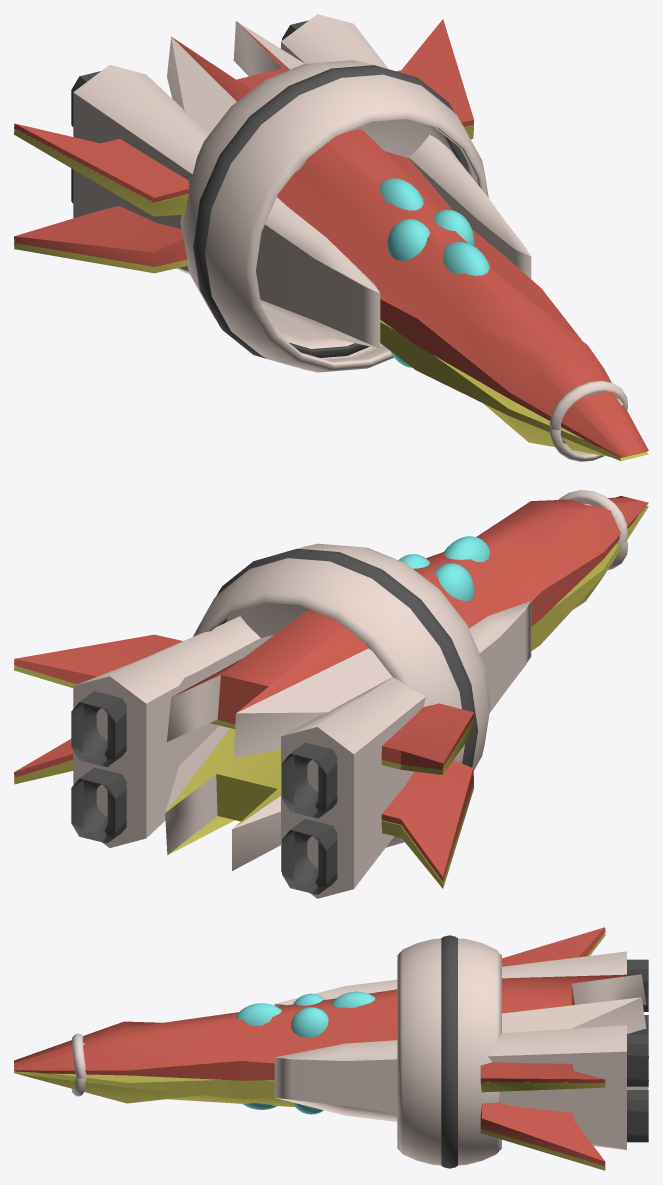
The model's file is enemy02.fbx.
The picture shows the model from 3 angles, top to bottom: view 1: azimuth 30°, elevation 25°; view 2: azimuth 150°, elevation 25°; view 3: azimuth 270°, elevation 25°; orthographic projection. The views are drawn at different scales.
Parts seen in each view (by area): view 1: pasted__pCube2, pSphere37, pasted__pCube7, pasted__pCube56, pasted__pCube9, pasted__pCube62, pSphere44, pasted__pCube55, pasted__pCube10, pasted__pCube58, pasted__pCube61, pSphere26 (+6 smaller); view 2: pasted__pCube2, pSphere37, pasted__pCube7, pasted__pCube56, pasted__pCube10, pasted__pCube9, pasted__pCube58, pasted__pCube62, pasted__pCube59, pasted__pCube57, pSphere44, pasted__pCube55 (+9 smaller); view 3: pasted__pCube2, pSphere37, pasted__pCube56, pasted__pCube57, pasted__pCube58, pasted__pCube10, pasted__pCube62, pSphere44, pasted__pCube9, pasted__pCube7, pasted__pasted__pCube77, pasted__pasted__pCube78 (+7 smaller).
Boxes of the visible parts, left/top/right/bottom form: pasted__pCube2: left=172, top=23, right=648, bottom=457; pSphere37: left=180, top=60, right=488, bottom=372; pasted__pCube7: left=73, top=65, right=380, bottom=320; pasted__pCube56: left=281, top=14, right=531, bottom=278; pasted__pCube9: left=14, top=19, right=473, bottom=202; pasted__pCube62: left=14, top=206, right=187, bottom=266; pSphere44: left=193, top=65, right=469, bottom=358; pasted__pCube55: left=73, top=123, right=380, bottom=348; pasted__pCube10: left=167, top=21, right=304, bottom=134; pasted__pCube58: left=380, top=320, right=648, bottom=460; pasted__pCube61: left=14, top=125, right=473, bottom=216; pSphere26: left=387, top=219, right=429, bottom=260; pasted__pCube2: left=173, top=496, right=648, bottom=723; pSphere37: left=193, top=543, right=490, bottom=847; pasted__pCube7: left=281, top=601, right=531, bottom=859; pasted__pCube56: left=73, top=616, right=260, bottom=808; pasted__pCube10: left=167, top=635, right=392, bottom=758; pasted__pCube9: left=14, top=634, right=473, bottom=769; pasted__pCube58: left=165, top=505, right=648, bottom=854; pasted__pCube62: left=14, top=739, right=473, bottom=882; pasted__pCube59: left=165, top=725, right=280, bottom=870; pasted__pCube57: left=73, top=716, right=218, bottom=847; pSphere44: left=216, top=548, right=477, bottom=767; pasted__pCube55: left=281, top=629, right=531, bottom=898; pasted__pCube2: left=14, top=974, right=639, bottom=1080; pSphere37: left=397, top=938, right=501, bottom=1165; pasted__pCube56: left=274, top=1025, right=626, bottom=1127; pasted__pCube57: left=274, top=1073, right=626, bottom=1150; pasted__pCube58: left=14, top=1071, right=294, bottom=1106; pasted__pCube10: left=502, top=974, right=646, bottom=1033; pasted__pCube62: left=480, top=1102, right=605, bottom=1165; pSphere44: left=441, top=935, right=457, bottom=1168; pasted__pCube9: left=480, top=927, right=605, bottom=1083; pasted__pCube7: left=274, top=951, right=626, bottom=1006; pasted__pasted__pCube77: left=627, top=1034, right=648, bottom=1086; pasted__pasted__pCube78: left=627, top=1090, right=648, bottom=1142.
Bounding box in the file's own units: 105 × 68.63 × 185.
